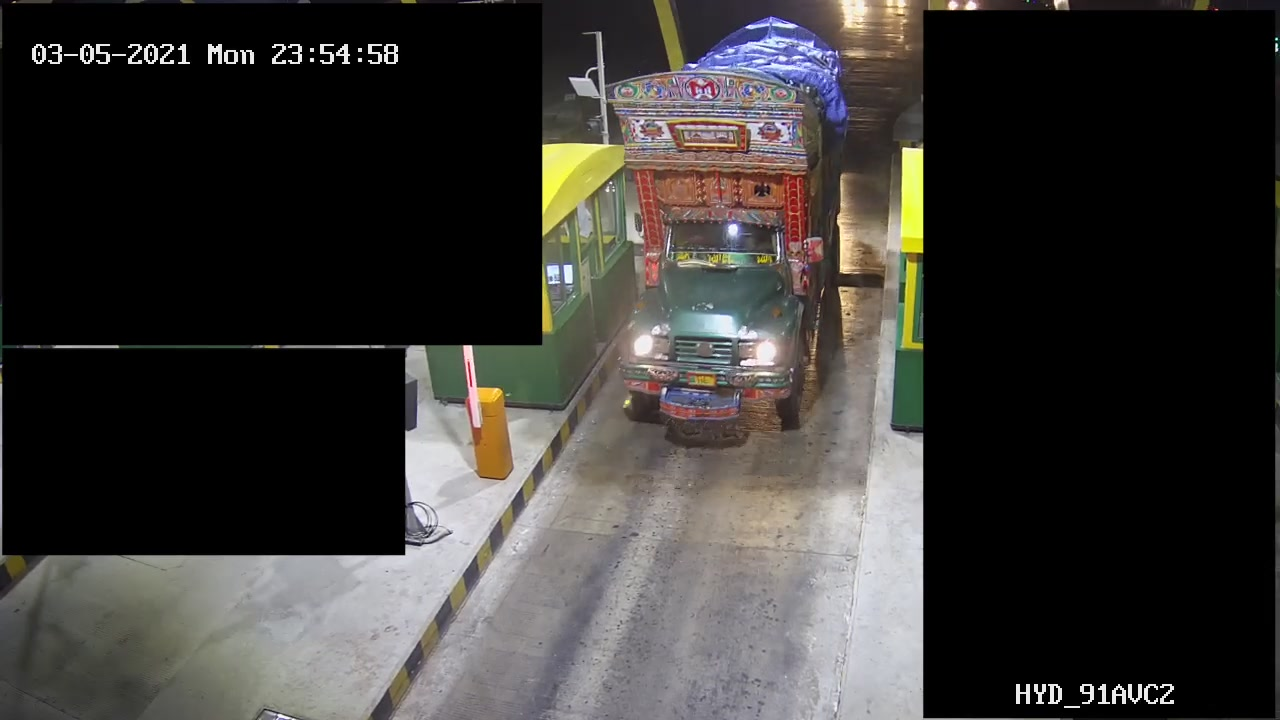F5: (602, 8, 854, 442)
